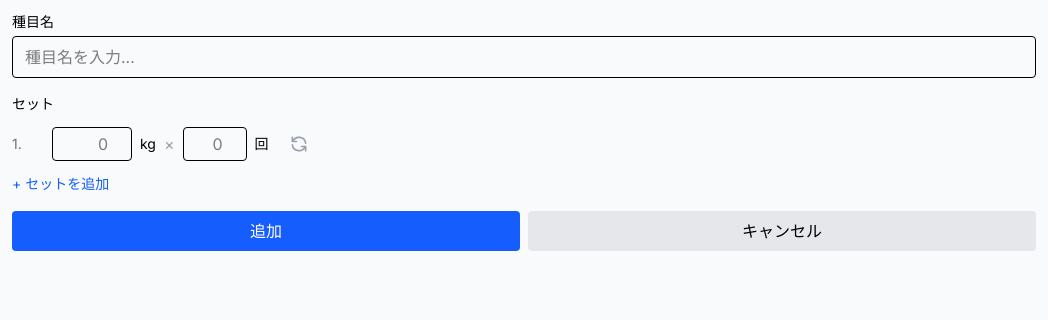
Scenario: ExerciseForm › セット管理 › セット追加ボタンでセットが追加される
Click the button "+ セットを追加": (61, 184) [12,174,109,194]
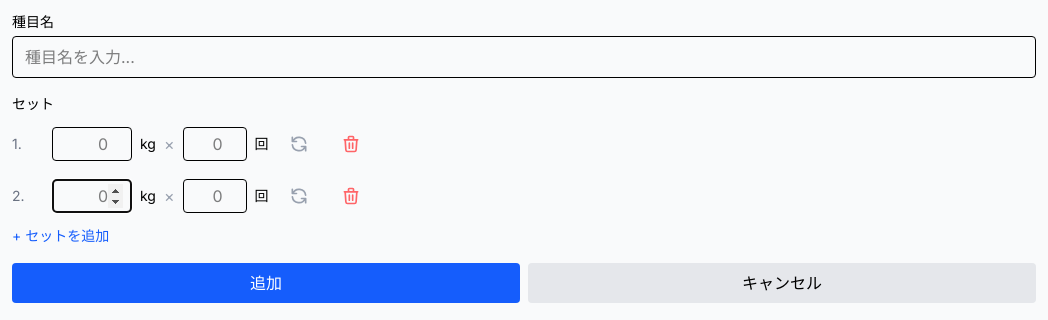
Result: the text "2." is shown at [12,187,25,204]
